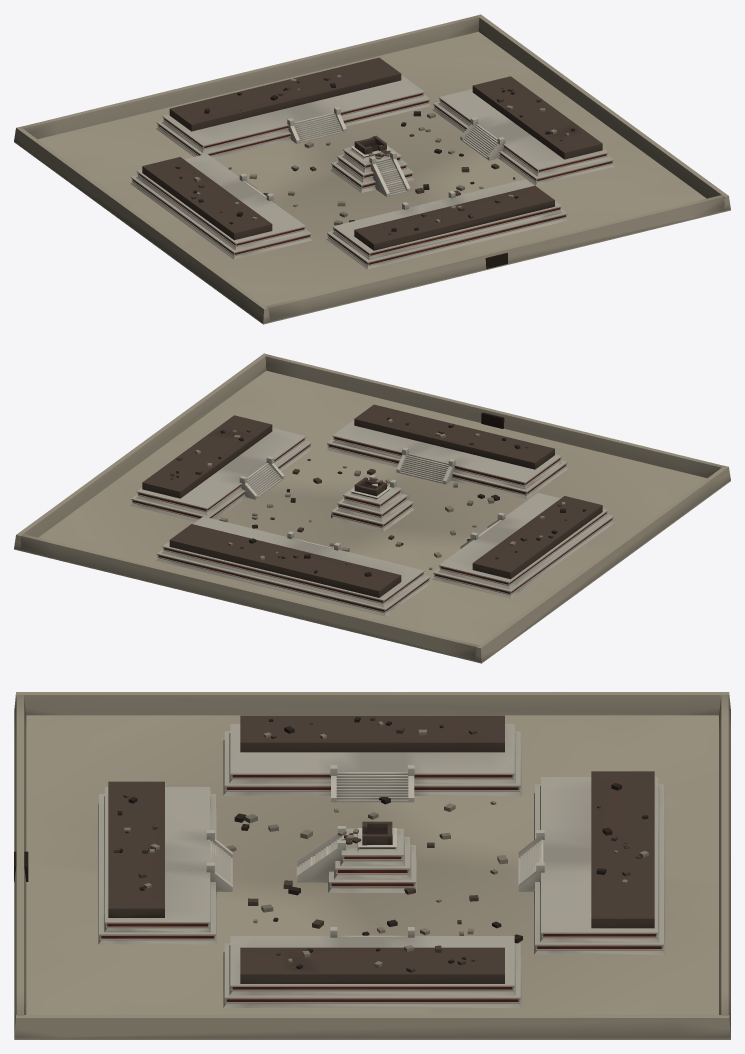
Rendered from xalla-650.glb.
3 renders of one model, top to bottom at view 1: azimuth 30°, elevation 25°; view 2: azimuth 150°, elevation 25°; view 3: azimuth 270°, elevation 25°, orthographic. The views are drawn at different scales.
Visible parts, largest first — view 1: p0_wall, p1_platforms, p2_halls; view 2: p0_wall, p1_platforms, p2_halls; view 3: p0_wall, p1_platforms, p2_halls.
Part boxes in pixels (x1,y1,x2,y2): p0_wall: [14, 14, 730, 324]; p1_platforms: [130, 75, 614, 269]; p2_halls: [142, 57, 602, 250]; p0_wall: [14, 353, 730, 663]; p1_platforms: [130, 420, 614, 616]; p2_halls: [142, 404, 602, 597]; p0_wall: [14, 692, 730, 1039]; p1_platforms: [98, 724, 665, 1007]; p2_halls: [108, 715, 654, 983].
Bounding box in the file's own units: 130 × 8.73 × 120.
